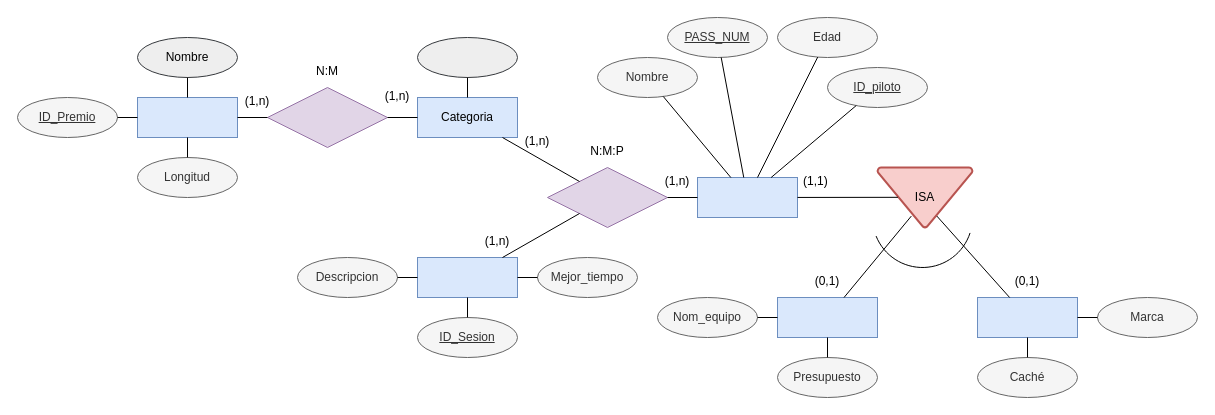
The diagram is 1215 pixels wide and 415 high, and some of its shapes have lost their labels. The shapes that lost their labels are listed below. From the top down, each one's centre as x and y in pixels, then its label:
At pixel 467 57: "Posicion".
At pixel 187 117: "Gran_Premio".
At pixel 327 117: "Tiene".
At pixel 607 197: "participa en".
At pixel 747 197: "Piloto".
At pixel 467 277: "Sesion".
At pixel 827 317: "Privado".
At pixel 1027 317: "Oficial".
